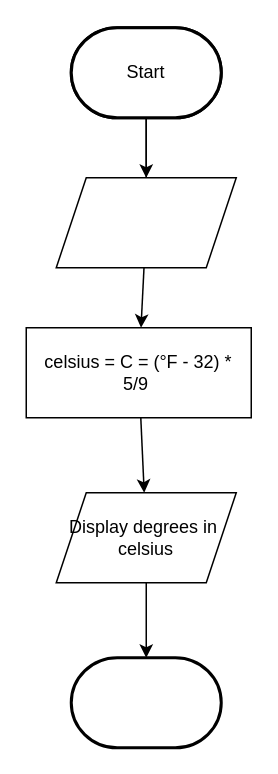
The diagram is 278 pixels wide and 774 high, and some of its shapes have lost their labels. Each missing label, with the centre of its shape:
"Enter Fahrenheit" goes at pixel 145 222.
"Stop" goes at pixel 145 702.
